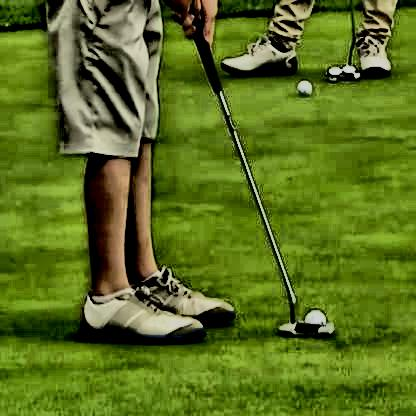golfball: (302, 306, 326, 325)
